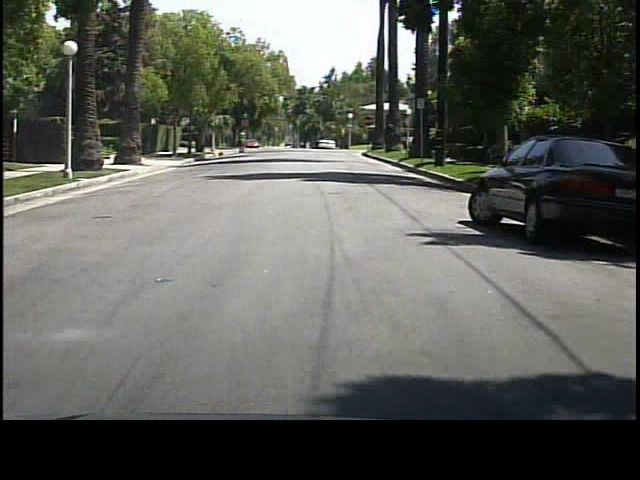person: (235, 129, 250, 159)
